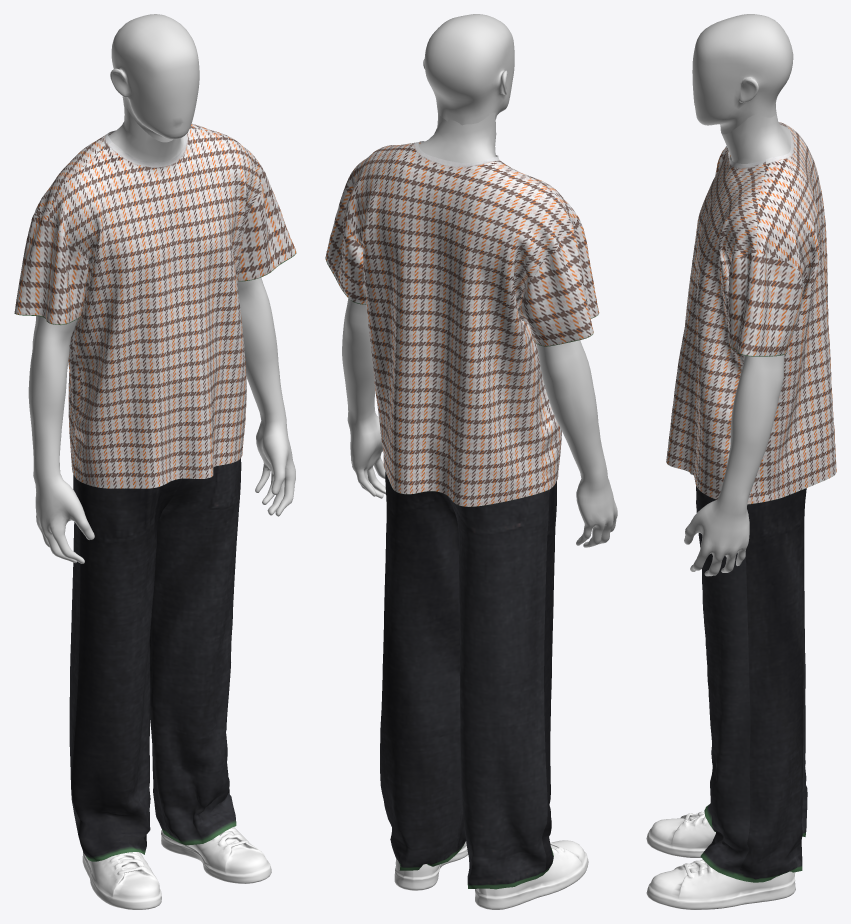
The model's file is actor.glb.
3 renders of one model, left to right at view 1: azimuth 30°, elevation 25°; view 2: azimuth 150°, elevation 25°; view 3: azimuth 270°, elevation 25°, orthographic. The views are drawn at different scales.
Parts seen in each view (by area): view 1: tshirt_3, body_3_0, shoes_r_Shape_2, shoes_l_Shape_1; view 2: tshirt_3, body_3_0, shoes_r_Shape_2, shoes_l_Shape_1; view 3: tshirt_3, body_3_0, shoes_l_Shape_1, shoes_r_Shape_2.
Boxes of the visible parts, bbox=[...] form: tshirt_3: bbox=[14, 123, 296, 861]; body_3_0: bbox=[28, 14, 295, 563]; shoes_r_Shape_2: bbox=[82, 852, 161, 909]; shoes_l_Shape_1: bbox=[161, 827, 271, 883]; tshirt_3: bbox=[325, 141, 599, 889]; body_3_0: bbox=[342, 14, 617, 547]; shoes_r_Shape_2: bbox=[475, 840, 588, 909]; shoes_l_Shape_1: bbox=[394, 841, 468, 890]; tshirt_3: bbox=[666, 122, 836, 882]; body_3_0: bbox=[684, 14, 793, 576]; shoes_l_Shape_1: bbox=[646, 859, 795, 909]; shoes_r_Shape_2: bbox=[646, 811, 715, 857].
Size of the model in its own units: 0.6357 by 1.9 by 0.3829.
Materials: 3 (1 with a texture image).
